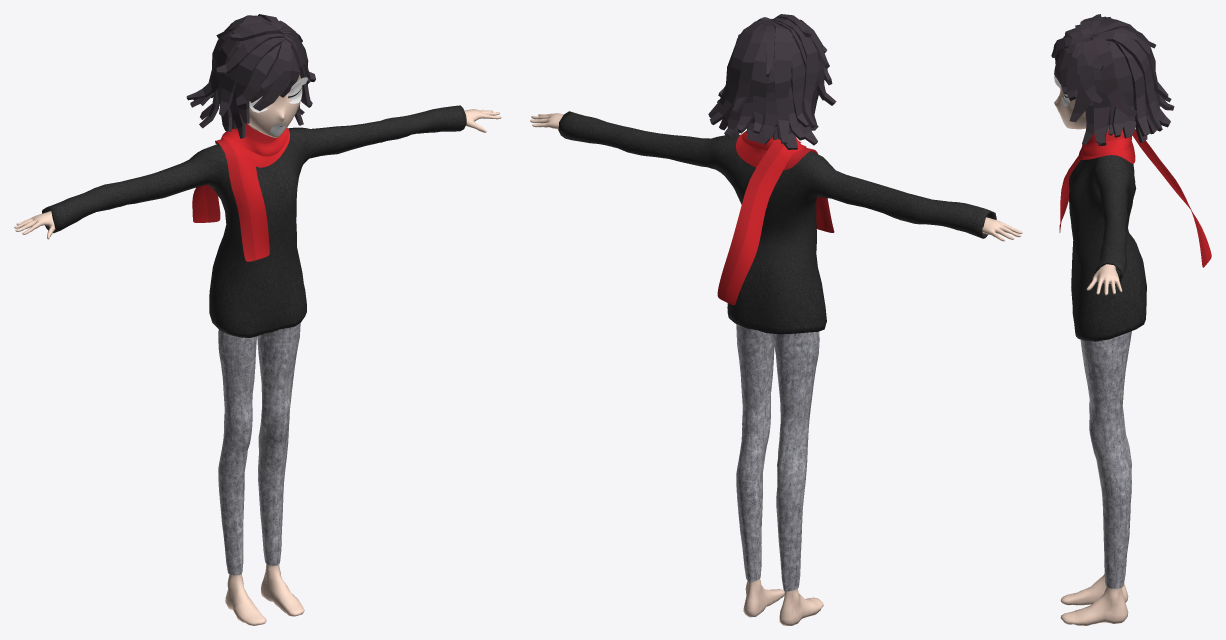
Rendered from girlOBJ.obj.
3 renders of one model, left to right at view 1: azimuth 30°, elevation 25°; view 2: azimuth 150°, elevation 25°; view 3: azimuth 270°, elevation 25°, orthographic.
Parts seen in each view (by area): view 1: Top_pERSONAJE.004, bot_pERSONAJE.005, hair_Hair001.baked.001, scarf_Cube, body_pERSONAJE.002, Head_Hair001.baked.005; view 2: Top_pERSONAJE.004, bot_pERSONAJE.005, hair_Hair001.baked.001, scarf_Cube, body_pERSONAJE.002; view 3: Top_pERSONAJE.004, hair_Hair001.baked.001, bot_pERSONAJE.005, body_pERSONAJE.002, scarf_Cube, Head_Hair001.baked.005.
Part boxes in pixels (<box>): Top_pERSONAJE.004: <box>42,105,466,337</box>; bot_pERSONAJE.005: <box>218,323,300,575</box>; hair_Hair001.baked.001: <box>186,14,315,138</box>; scarf_Cube: <box>192,123,289,261</box>; body_pERSONAJE.002: <box>14,109,501,625</box>; Head_Hair001.baked.005: <box>249,74,302,137</box>; Top_pERSONAJE.004: <box>558,111,996,334</box>; bot_pERSONAJE.005: <box>736,324,819,591</box>; hair_Hair001.baked.001: <box>708,14,836,149</box>; scarf_Cube: <box>717,131,834,305</box>; body_pERSONAJE.002: <box>530,113,1022,625</box>; Top_pERSONAJE.004: <box>1069,155,1146,341</box>; hair_Hair001.baked.001: <box>1051,14,1174,145</box>; bot_pERSONAJE.005: <box>1080,331,1131,588</box>; body_pERSONAJE.002: <box>1060,125,1128,625</box>; scarf_Cube: <box>1059,129,1211,267</box>; Head_Hair001.baked.005: <box>1054,84,1086,129</box>.
Size of the model in its own units: 1.39 by 1.61 by 0.3962.
Materials: 7 (7 with a texture image).
